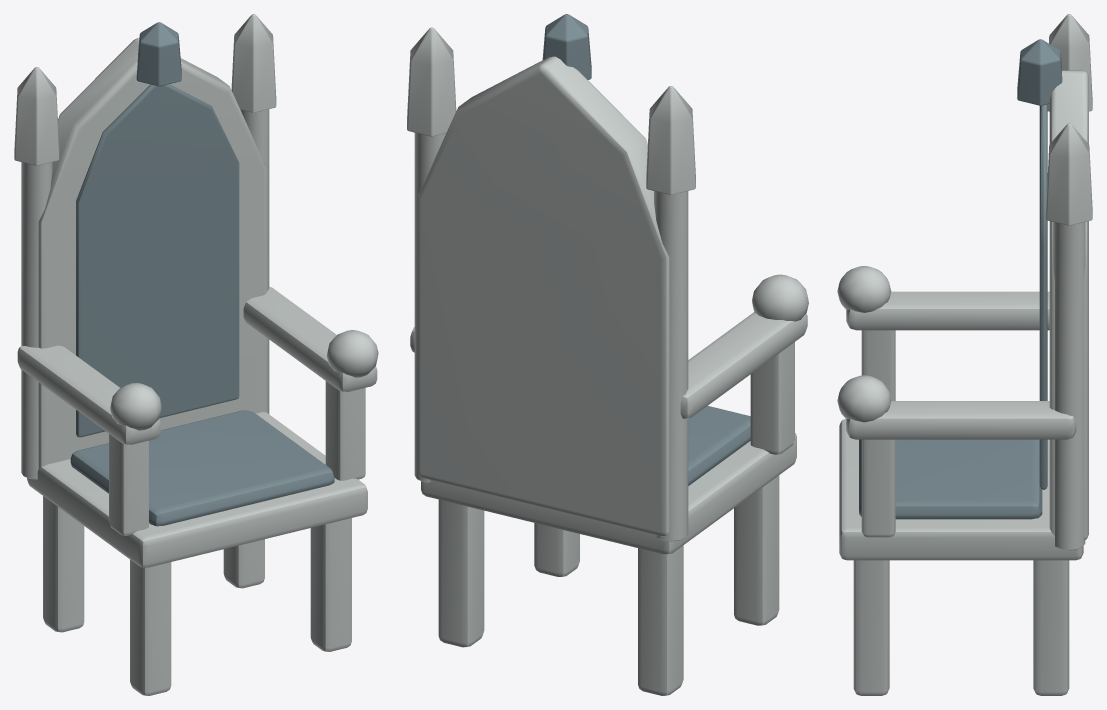
Rendered from throne.glb.
3 views of the same model, side by side, from view 1: azimuth 30°, elevation 25°; view 2: azimuth 150°, elevation 25°; view 3: azimuth 270°, elevation 25° (orthographic). The views are drawn at different scales.
Parts seen in each view (by area): view 1: back_inset, high_back, seat_cushion, seat_frame, back_edge_post, leg.001, leg.003, armrest, leg, armrest.001, spire, arm_post.001 (+7 smaller); view 2: high_back, seat_frame, back_edge_post, leg.002, leg, leg.001, armrest, spire, spire.001, arm_post, seat_cushion, back_edge_post.001 (+3 smaller); view 3: seat_cushion, seat_frame, back_edge_post.001, armrest.001, armrest, high_back, leg.002, leg.003, spire.001, arm_post.001, back_inset, crown_gem (+4 smaller).
Part boxes in pixels (x1,y1,x2,y2): back_inset: (76, 84, 239, 437); high_back: (38, 38, 266, 468); seat_cushion: (70, 410, 334, 526); seat_frame: (27, 412, 367, 567); back_edge_post: (21, 162, 52, 479); leg.001: (130, 559, 171, 695); leg.003: (310, 518, 351, 651); armrest: (17, 345, 160, 444); leg: (43, 496, 84, 632); armrest.001: (243, 287, 377, 391); spire: (14, 67, 59, 165); arm_post.001: (325, 381, 365, 480); high_back: (417, 56, 669, 536); seat_frame: (421, 433, 796, 554); back_edge_post: (654, 191, 688, 541); leg.002: (438, 499, 484, 647); leg: (638, 545, 683, 695); leg.001: (734, 475, 779, 625); armrest: (680, 312, 807, 418); spire: (646, 86, 695, 194); spire.001: (407, 27, 456, 136); arm_post: (750, 342, 794, 454); seat_cushion: (688, 406, 750, 485); back_edge_post.001: (414, 132, 445, 482); seat_cushion: (859, 439, 1042, 519); seat_frame: (839, 419, 1083, 560); back_edge_post.001: (1053, 222, 1085, 550); armrest.001: (846, 401, 1076, 439); armrest: (846, 291, 1049, 330); high_back: (1049, 70, 1088, 540); leg.002: (1033, 560, 1069, 695); leg.003: (853, 560, 889, 695); spire.001: (1046, 123, 1092, 225); arm_post.001: (861, 439, 895, 537); back_inset: (1039, 104, 1047, 489); crown_gem: (1017, 39, 1062, 105).
Size of the model in its own units: 0.87 by 1.86 by 0.7098.
